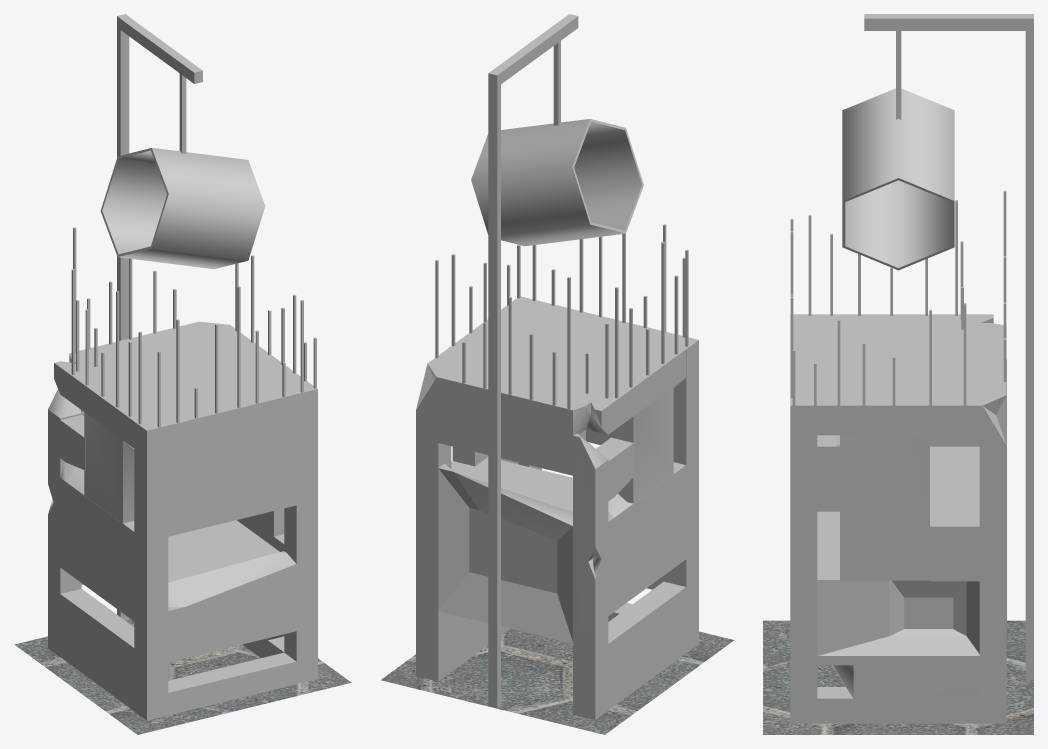
The model's file is TallNew_Grid.fbx.
The picture shows the model from 3 angles, left to right: view 1: azimuth 30°, elevation 25°; view 2: azimuth 150°, elevation 25°; view 3: azimuth 270°, elevation 25°; orthographic projection. The views are drawn at different scales.
Parts seen in each view (by area): view 1: Cube__1_.004, Cube__3_.002, Cube.006, Cube__2_.003, Pipe.002, tallNew, Cube__35_, Cube__36_; view 2: Cube__3_.002, Cube__2_.003, Pipe.002, tallNew, Cube__35_, Cube__1_.004, Cube.006, Cube__36_; view 3: Cube__3_.002, Cube.006, Pipe.002, tallNew, Cube__35_, Cube__2_.003, Cube__1_.004, Cube__36_.
Boxes of the visible parts, box(x1,y1,x2,y2) form: Cube__1_.004: box(134, 422, 299, 720); Cube__3_.002: box(54, 321, 317, 640); Cube.006: box(167, 389, 317, 683); Cube__2_.003: box(48, 389, 135, 710); Pipe.002: box(100, 148, 265, 269); tallNew: box(14, 618, 351, 734); Cube__35_: box(117, 14, 202, 620); Cube__36_: box(179, 73, 186, 153); Cube__3_.002: box(416, 296, 698, 681); Cube__2_.003: box(573, 433, 686, 719); Pipe.002: box(471, 119, 643, 246); tallNew: box(381, 629, 733, 734); Cube__35_: box(488, 14, 578, 708); Cube__1_.004: box(608, 340, 698, 653); Cube.006: box(451, 429, 611, 671); Cube__36_: box(553, 41, 560, 125); Cube__3_.002: box(790, 314, 1006, 723); Cube.006: box(790, 405, 980, 723); Pipe.002: box(842, 88, 954, 270); tallNew: box(763, 620, 1033, 734); Cube__35_: box(864, 14, 1033, 679); Cube__2_.003: box(817, 359, 1006, 632); Cube__1_.004: box(817, 511, 839, 568); Cube__36_: box(896, 31, 901, 119).
Bounding box in the file's own units: 10000 × 26964 × 10000.
